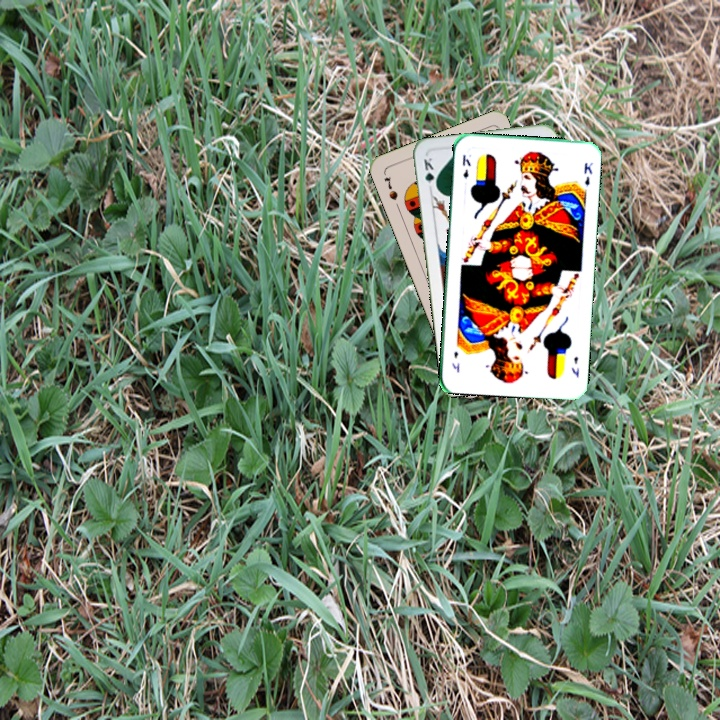EK: (459, 151, 473, 181), (567, 353, 581, 380)
GK: (420, 154, 439, 192)
S7: (380, 173, 400, 203)
